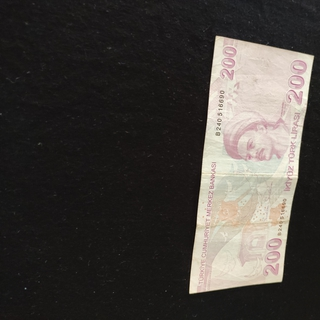200TLBack: (188, 34, 314, 295)
